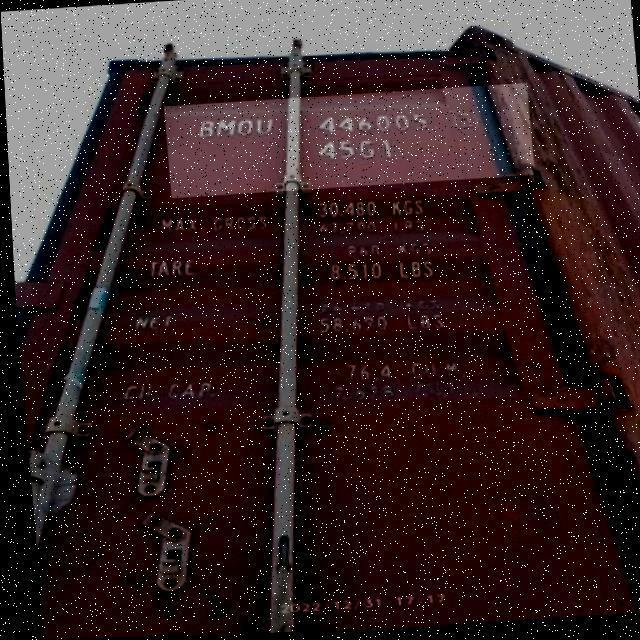container_number_h: (161, 86, 533, 201)
